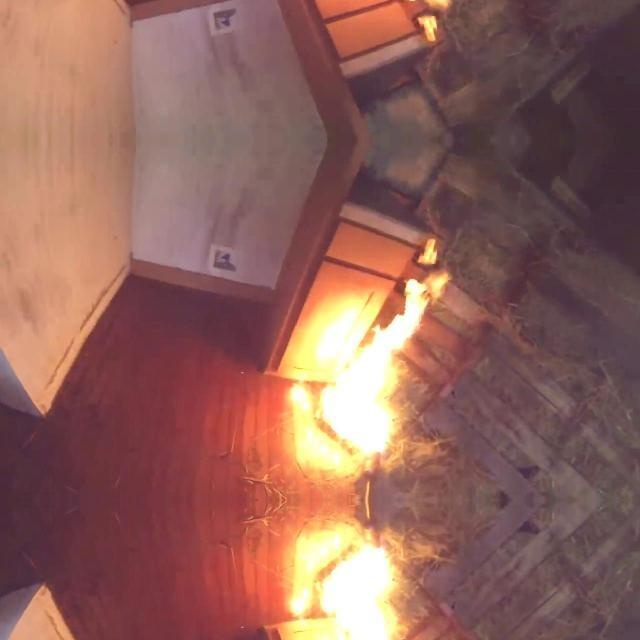fire: (277, 207, 441, 640)
